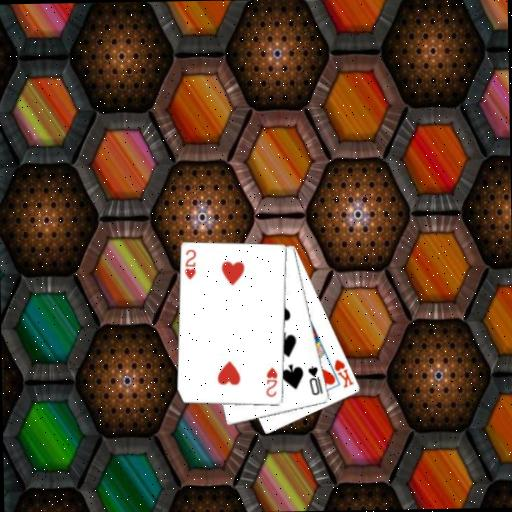10S: (305, 363, 325, 397)
2H: (263, 365, 280, 399), (182, 247, 198, 282)
KH: (331, 356, 355, 390)
